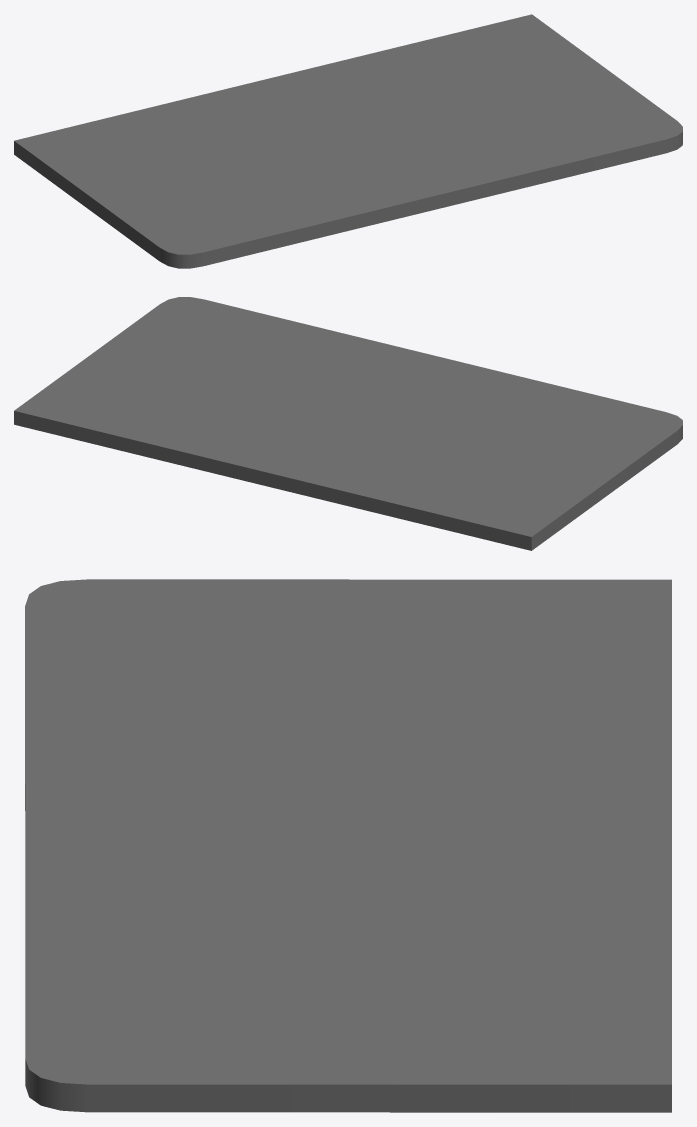
File: shop_parking_s01.FBX
3 renders of one model, top to bottom at view 1: azimuth 30°, elevation 25°; view 2: azimuth 150°, elevation 25°; view 3: azimuth 270°, elevation 25°, orthographic. The views are drawn at different scales.
Parts seen in each view (by area): view 1: shop_parking_s01; view 2: shop_parking_s01; view 3: shop_parking_s01.
Boxes of the visible parts, box(x1,y1,x2,y2) form: shop_parking_s01: box(14, 14, 682, 268); shop_parking_s01: box(14, 297, 682, 550); shop_parking_s01: box(25, 579, 671, 1112).
Size of the model in its own units: 948 by 513 by 24.31.
1 material, 1 textured.
